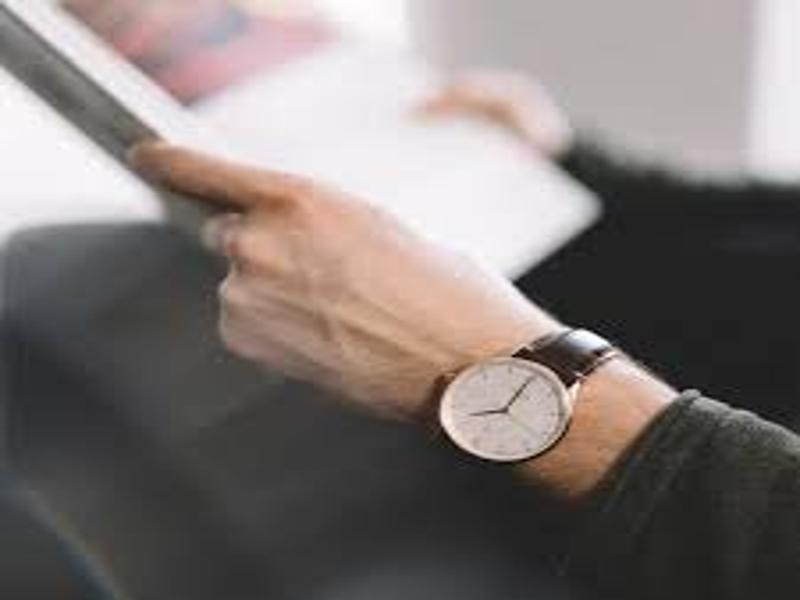watch: (437, 328, 620, 466)
